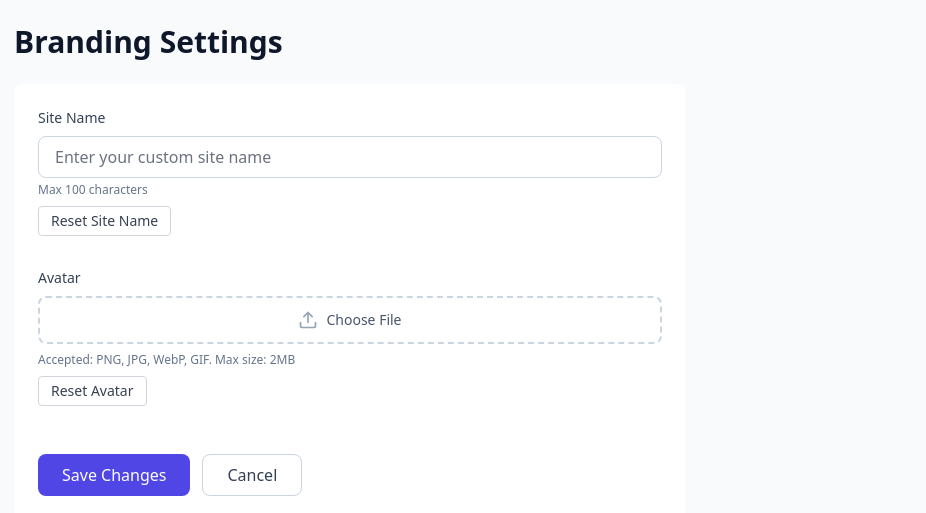
Scenario: BrandingPage - Error Message Extraction (BKNG-0109) › CT-01: Save Handler - Error Message Extraction › should extract error.message from error object and display in toast
This screenshot has width=926, height=513.
// Fill in form with valid data
Type "Test Brand" into the field with placeholder "Enter your custom site name" at coordinates (350, 157), box [38,136,662,178]
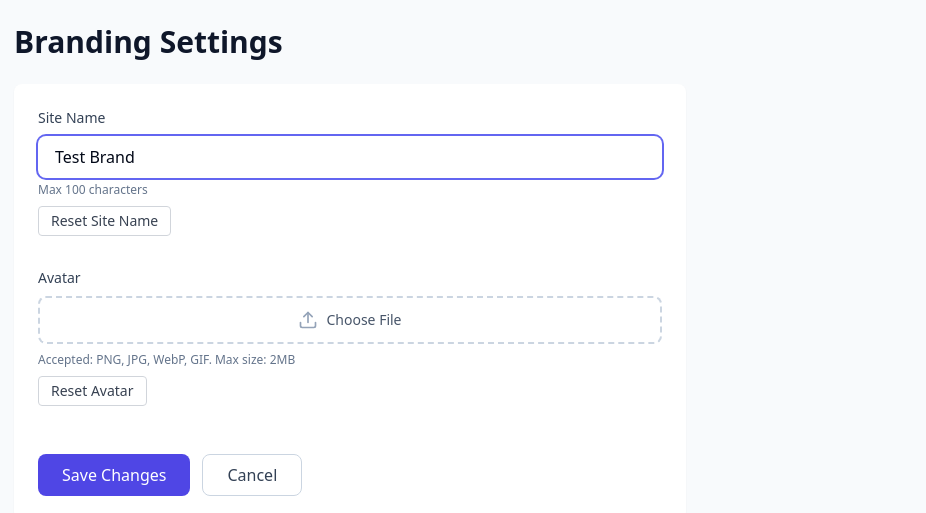
// Submit form
Click the button "Save Changes" at coordinates (114, 475), box [38,454,190,496]
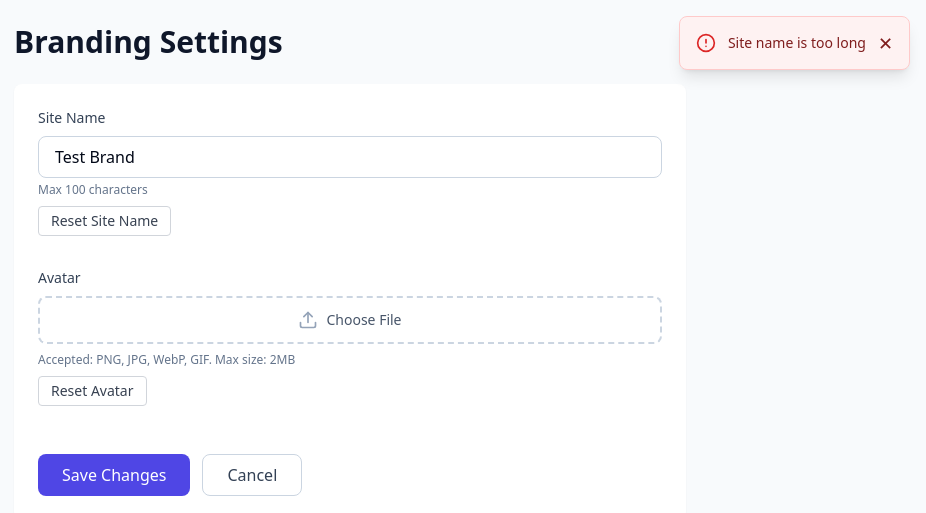
Expected: the text "Site name is too long" is shown, [728,33,866,53]
